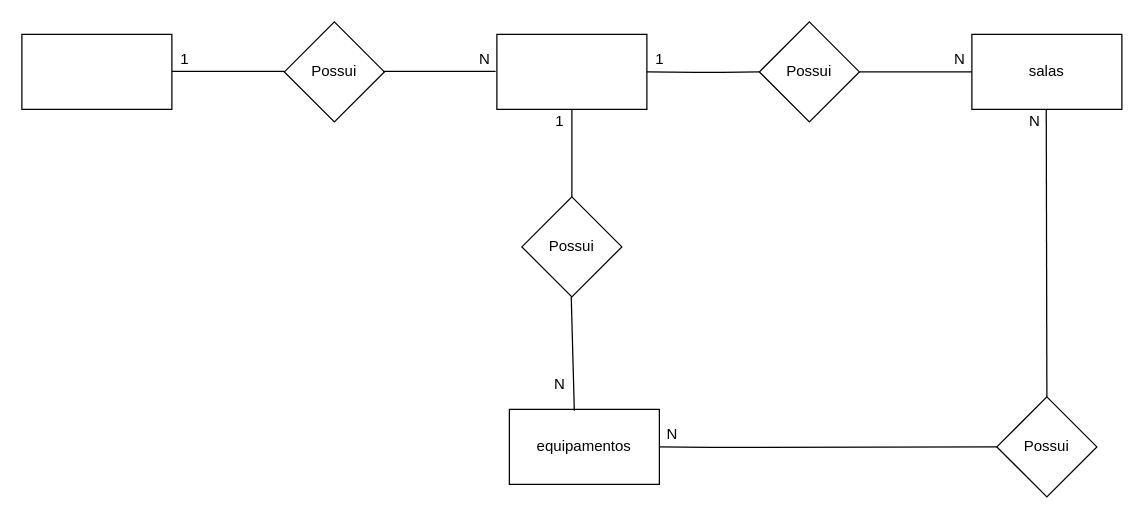
The diagram is 1144 pixels wide and 519 high, and some of its shapes have lost their labels. Here are the shapes that lost their labels. From the top down, the centre of each, then its label:
At pixel 96 71: "tiposUsuarios".
At pixel 571 71: "usuarios".
